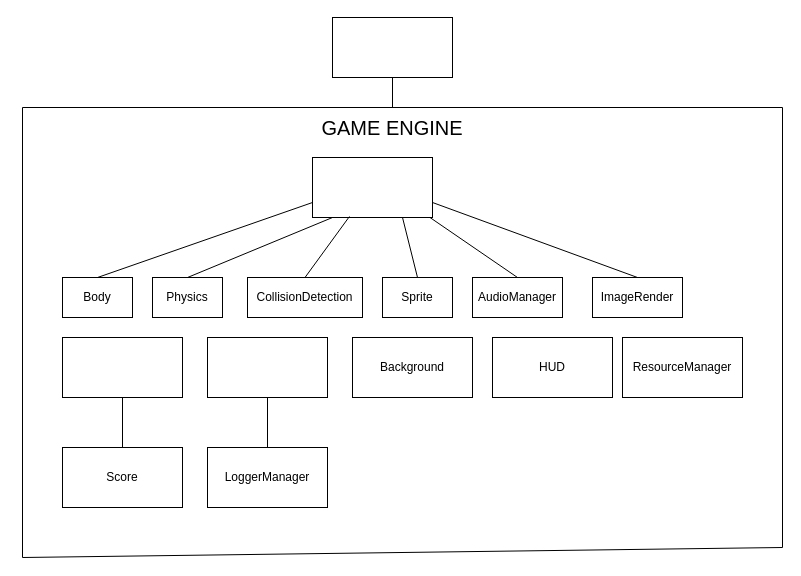
The diagram is 801 pixels wide and 576 high, and some of its shapes have lost their labels. The centre of each missing label's shape, as x and y in pixels:
"Entity" belongs at [372,187].
"GAME" belongs at [392,47].
"Logger" belongs at [267,367].
"Menu" belongs at [122,367].
